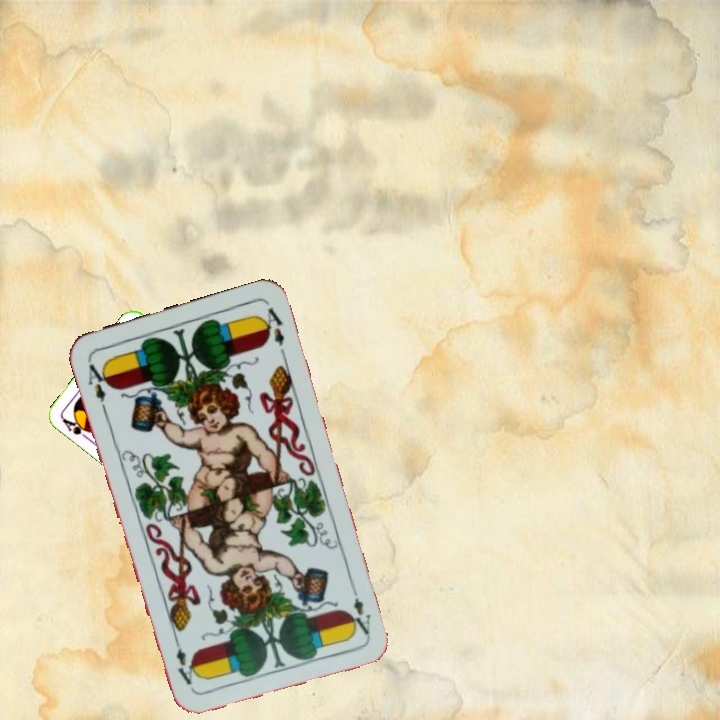EA: (83, 356, 113, 414), (344, 580, 374, 638)
SA: (59, 415, 96, 444)
